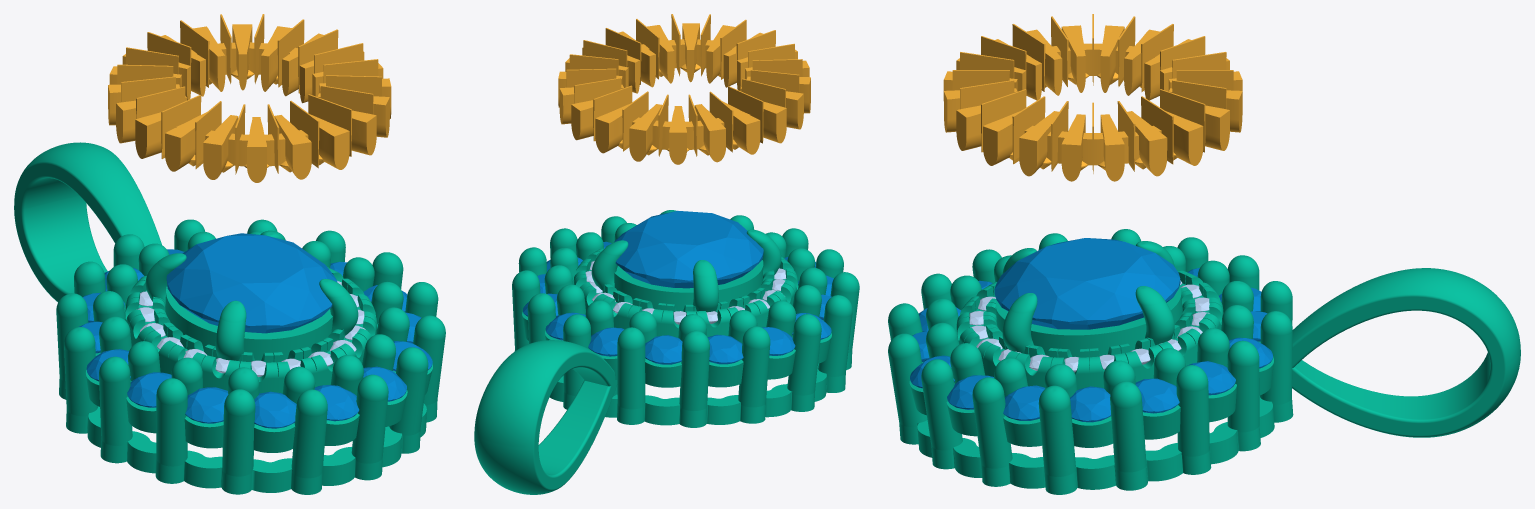
3 views of the same model, side by side, from view 1: azimuth 30°, elevation 25°; view 2: azimuth 150°, elevation 25°; view 3: azimuth 270°, elevation 25° (orthographic). The views are drawn at different scales.
Visible parts, largest first — view 1: VBP182(base).3dm, Micro Pave Cut Channel Cutter (×31), Diamond_Oval, Bezel (×5), Diamond_Round (×6), Head Prong (×3), Channel Cutter; view 2: VBP182(base).3dm, Micro Pave Cut Channel Cutter (×31), Diamond_Oval, Bezel (×4), Diamond_Round (×5), Head Prong (×3), Channel Cutter; view 3: VBP182(base).3dm, Micro Pave Cut Channel Cutter (×26), Diamond_Oval, Bezel (×6), Diamond_Round (×5), Head Prong (×2), Channel Cutter.
Part boxes in pixels (<box>): VBP182(base).3dm: <box>14,142,445,494</box>; Micro Pave Cut Channel Cutter (×31): <box>116,19,389,182</box>; Diamond_Oval: <box>166,233,337,333</box>; Bezel (×5): <box>126,286,359,452</box>; Diamond_Round (×6): <box>86,349,406,428</box>; Head Prong (×3): <box>145,253,358,360</box>; Channel Cutter: <box>176,42,308,166</box>; VBP182(base).3dm: <box>474,215,859,494</box>; Micro Pave Cut Channel Cutter (×31): <box>559,19,803,164</box>; Diamond_Oval: <box>614,210,763,288</box>; Bezel (×4): <box>614,260,795,387</box>; Diamond_Round (×5): <box>545,312,795,364</box>; Head Prong (×3): <box>591,229,781,312</box>; Channel Cutter: <box>632,39,749,149</box>; VBP182(base).3dm: <box>888,229,1520,494</box>; Micro Pave Cut Channel Cutter (×26): <box>952,24,1233,181</box>; Diamond_Oval: <box>994,238,1180,329</box>; Bezel (×6): <box>946,286,1236,447</box>; Diamond_Round (×5): <box>947,361,1235,422</box>; Head Prong (×2): <box>1002,286,1174,353</box>; Channel Cutter: <box>1024,43,1161,165</box>.
Bounding box in the file's own units: 2.05 × 2.07 × 3.28.
